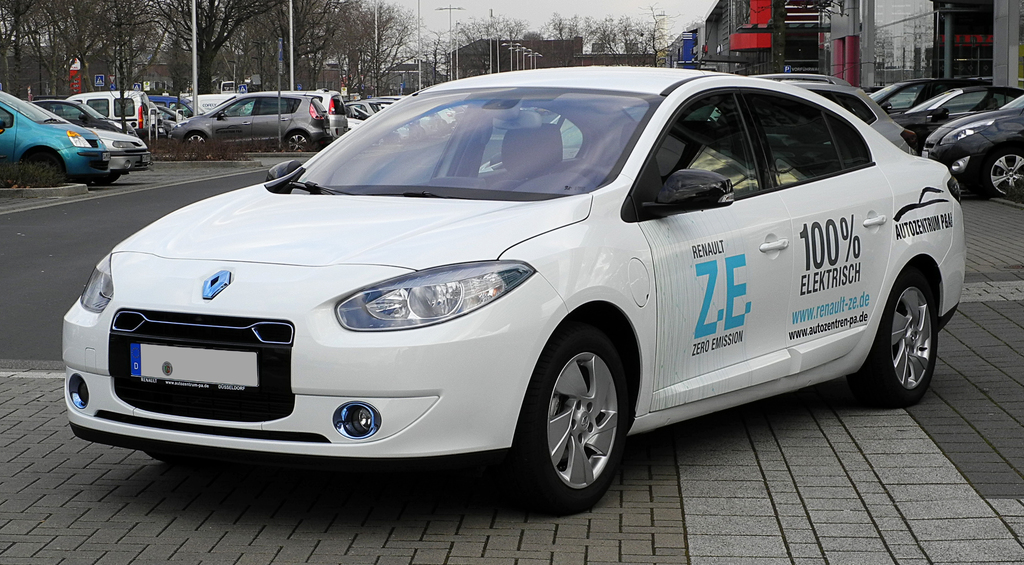Car: (85, 56, 965, 506), (0, 86, 466, 190), (755, 77, 1023, 199)
